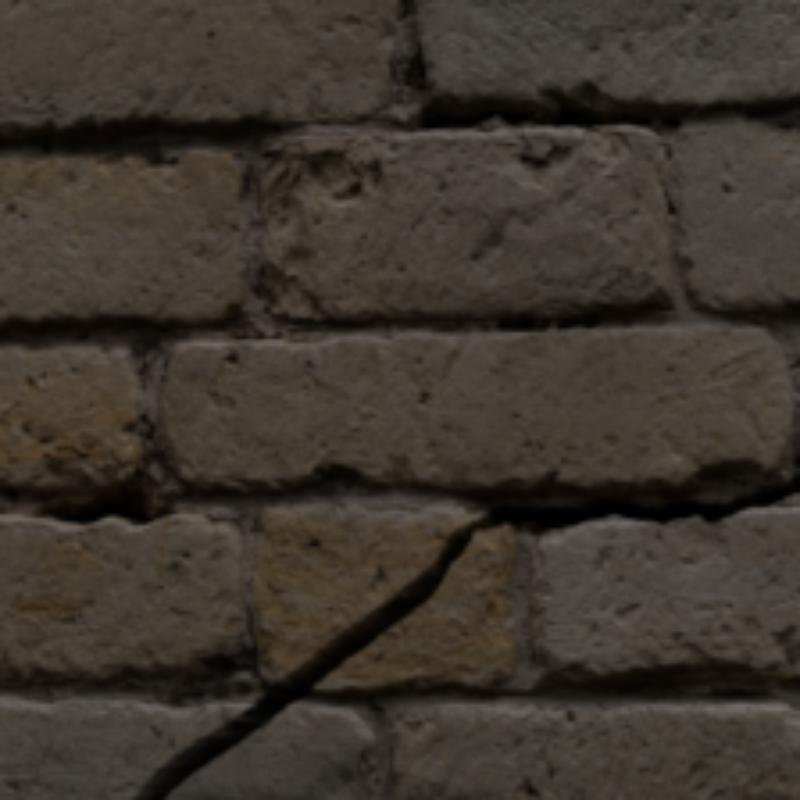crack: (136, 468, 796, 796)
